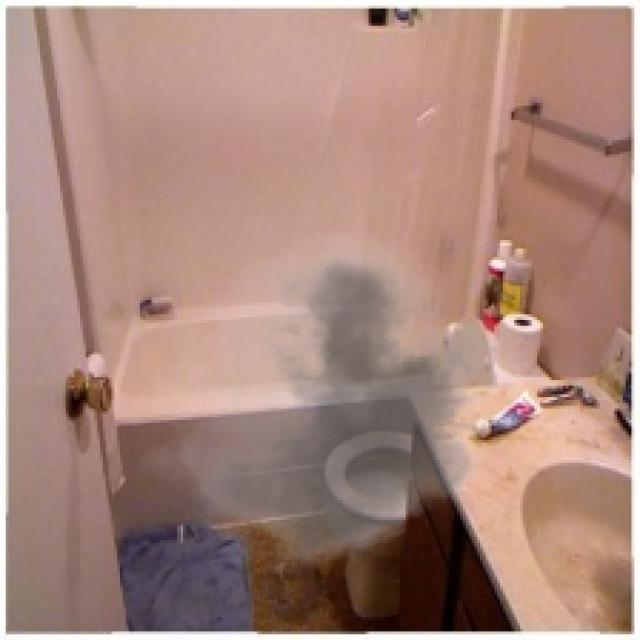Smoke: (137, 228, 520, 583)
